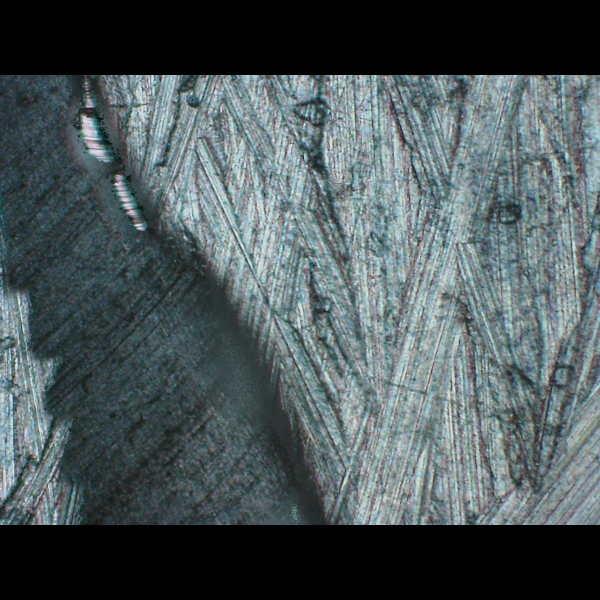d: (0, 75, 352, 524)
